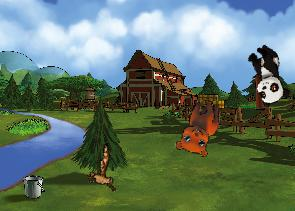bear: (174, 96, 220, 157)
eagle: (76, 142, 129, 200)
panda: (242, 41, 292, 108)
